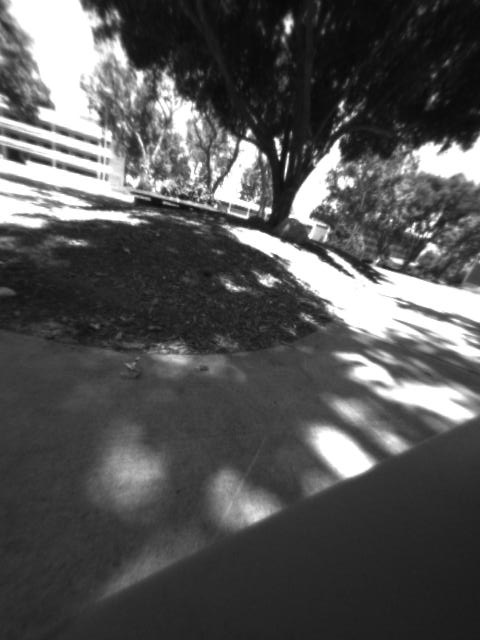dogtoy: (192, 259, 225, 288)
